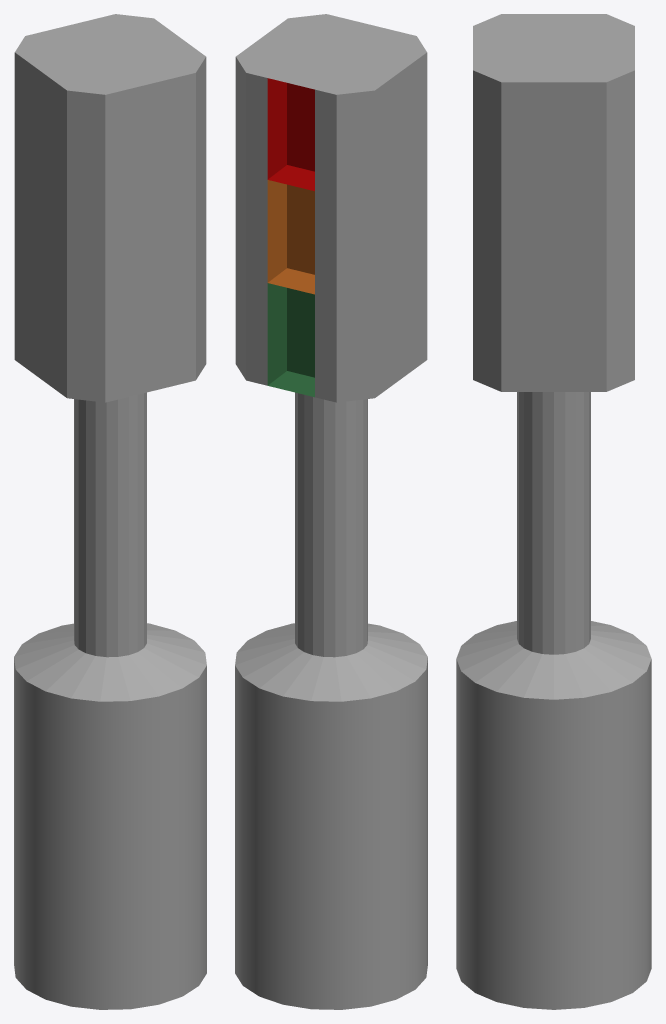
The model's file is Traffic Lights.fbx.
3 renders of one model, left to right at view 1: azimuth 30°, elevation 25°; view 2: azimuth 150°, elevation 25°; view 3: azimuth 270°, elevation 25°, orthographic.
Parts seen in each view (by area): view 1: pCylinder5; view 2: pCylinder5; view 3: pCylinder5.
Boxes of the visible parts, <box> form: pCylinder5: <box>14,14,206,1009</box>; pCylinder5: <box>235,14,427,1009</box>; pCylinder5: <box>456,14,651,1009</box>.
Size of the model in its own units: 0.1926 by 1 by 0.1926.
